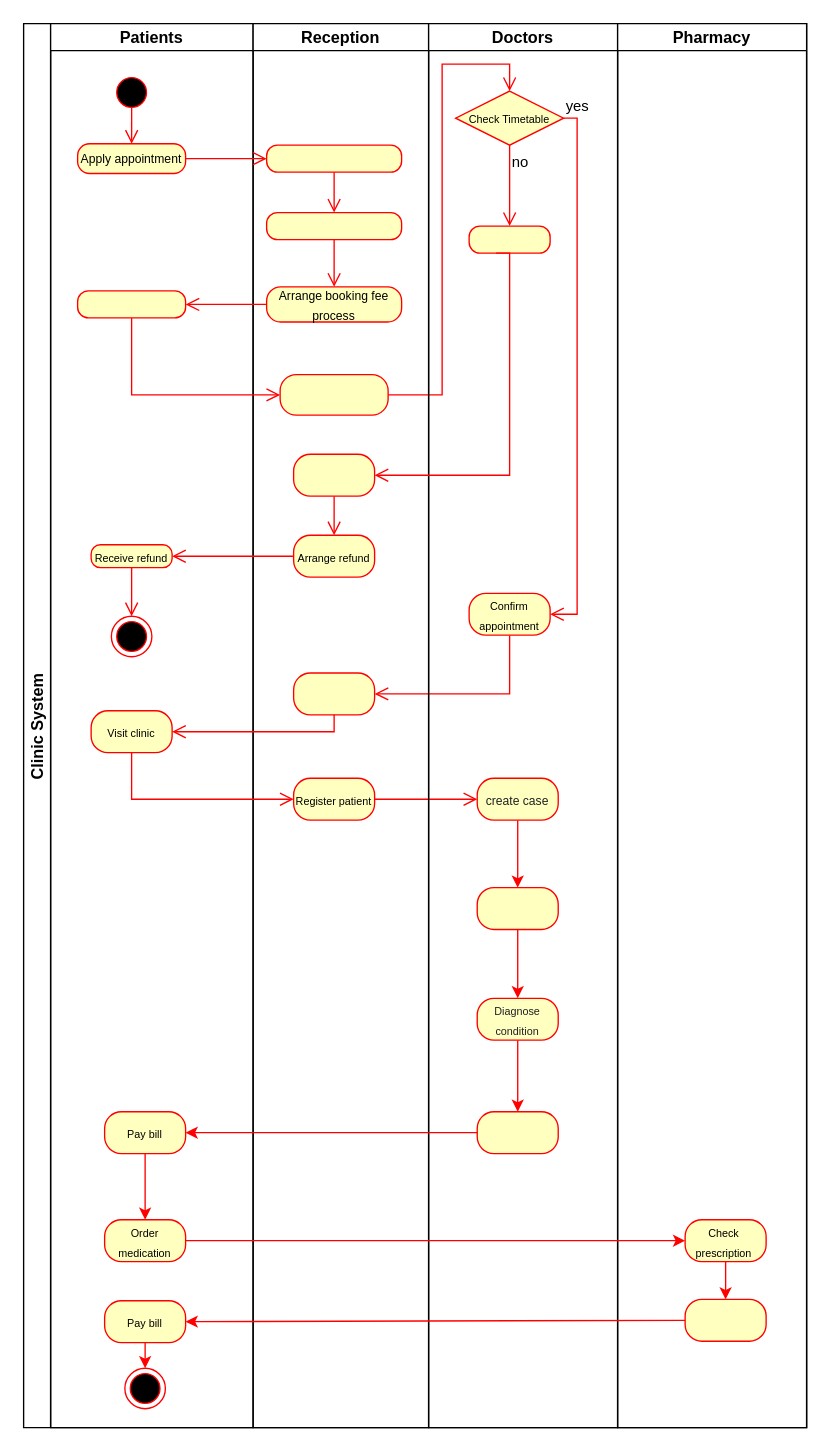
The diagram is 830 pixels wide and 1451 high, and some of its shapes have lost their labels. Each missing label, with the centre of its shape:
"Arrange appointment" belongs at point 333,693.
"Cancel appointment" belongs at point 333,474.
"Check calendar" belongs at point 333,225.
"Examine patient" belongs at point 517,907.
"Give medication" belongs at point 725,1319.
"Inform reception" belongs at point 509,239.
"Pay booking fee" belongs at point 131,304.
"Prescribe medication" belongs at point 517,1132.
"Review applications" belongs at point 333,158.
"Send appointment info" belongs at point 333,394.
